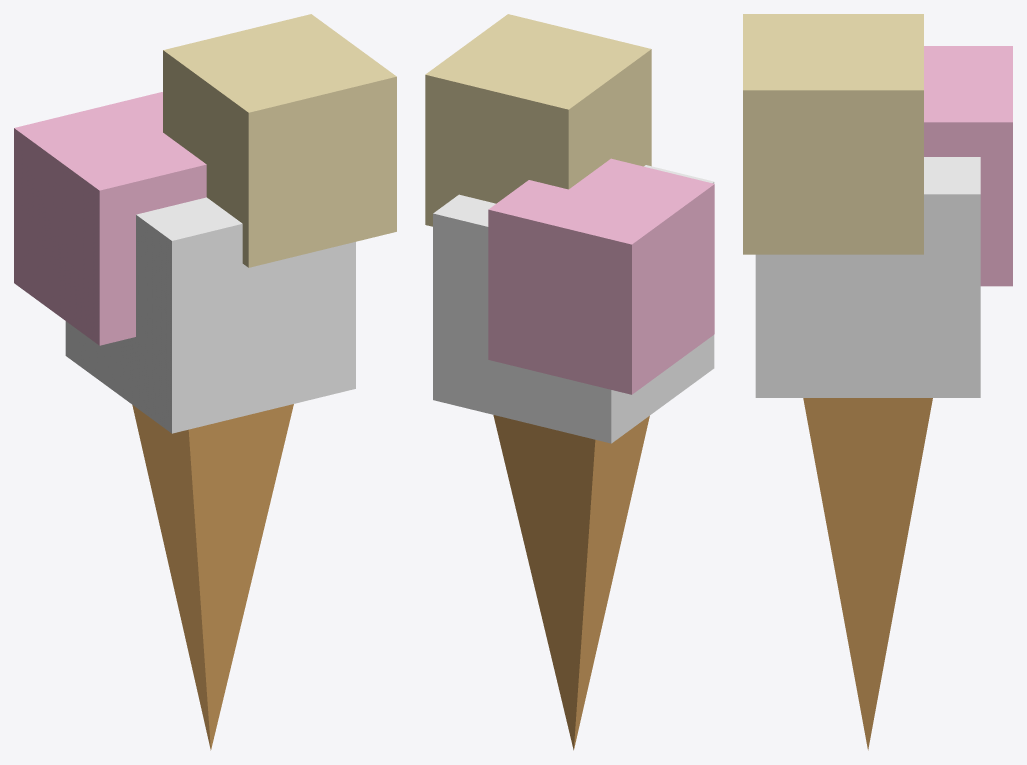
File: CandylandIcecream_05.fbx
3 views of the same model, side by side, from view 1: azimuth 30°, elevation 25°; view 2: azimuth 150°, elevation 25°; view 3: azimuth 270°, elevation 25° (orthographic). The views are drawn at different scales.
Parts seen in each view (by area): view 1: CandylandIcecream_05; view 2: CandylandIcecream_05; view 3: CandylandIcecream_05.
Boxes of the visible parts, x1,y1,x2,y2 form: CandylandIcecream_05: (14,14,396,750); CandylandIcecream_05: (425,14,714,750); CandylandIcecream_05: (743,14,1012,750).
Size of the model in its own units: 0.4376 by 1.12 by 0.3785.
